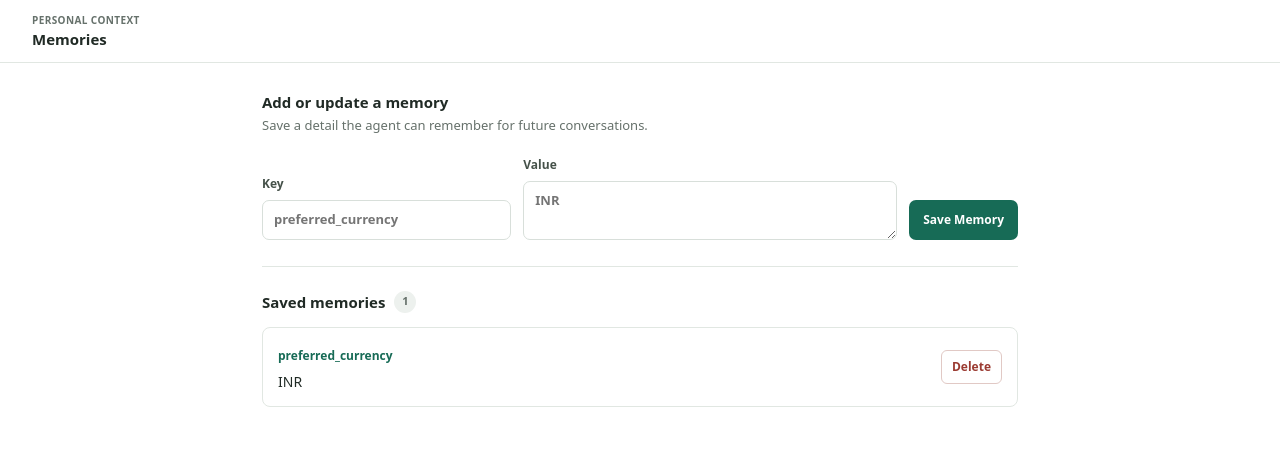
MemoryComponent › upserts a key in the displayed list and deletes the memory
Type " preferred_currency " into the field labelled "Key" at (387,220), box [262,200,511,240]
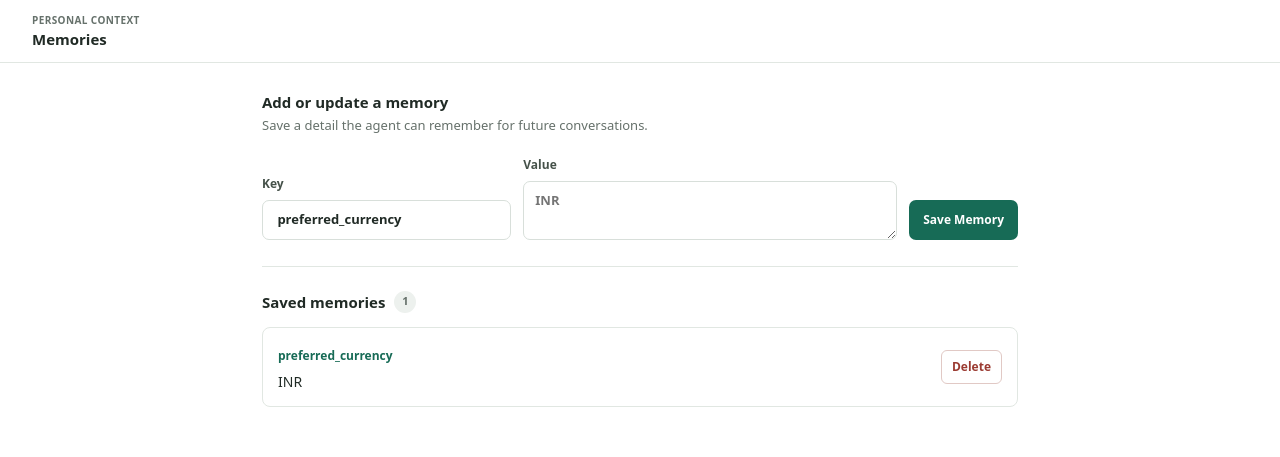
Type " USD " into the text box labelled "Value" at (710,210), box [523,180,897,240]
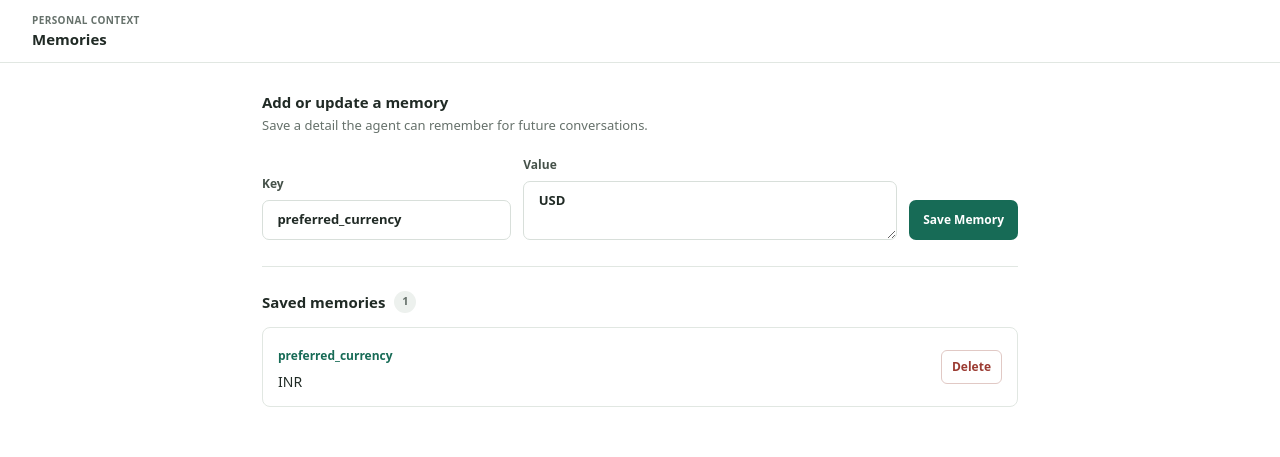
Submit the form, box [262,156,1018,240]
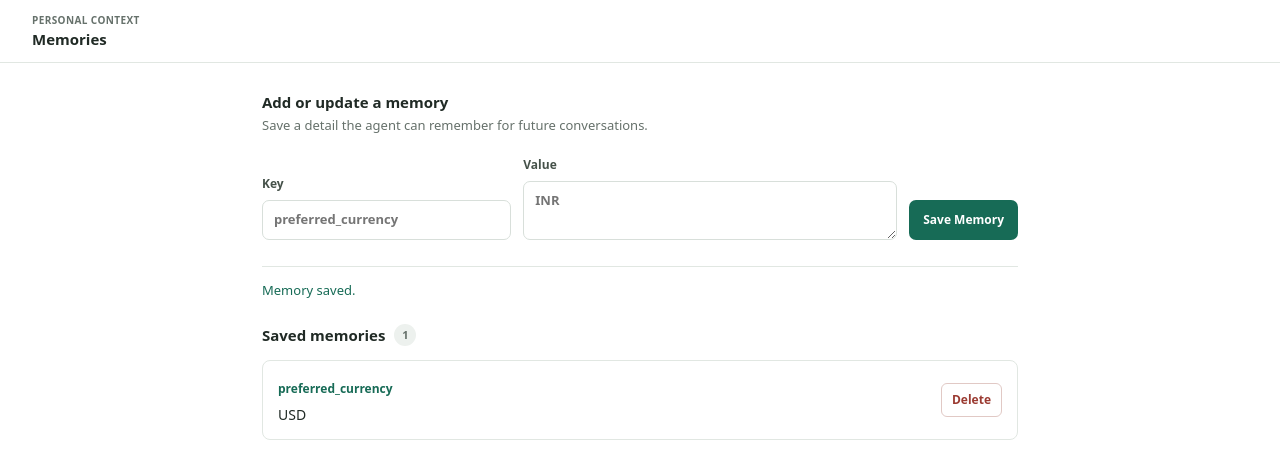
Check: the text "USD" is shown, box [278,405,306,424]
Check: the field labelled "Key" is empty, box [262,200,511,240]
Check: the text box labelled "Value" is empty, box [523,180,897,240]
Click the button with class "delete-button" at (972,400), box [941,383,1002,417]
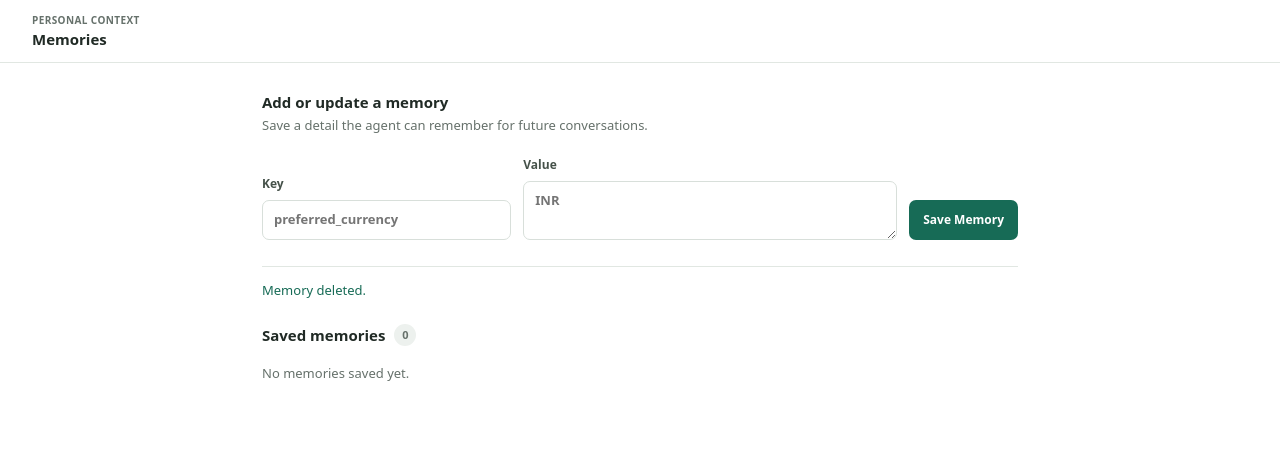
Check: no list items with class "memory-item" are shown
Check: the text "No memories saved yet." is shown, box [262,364,409,382]
